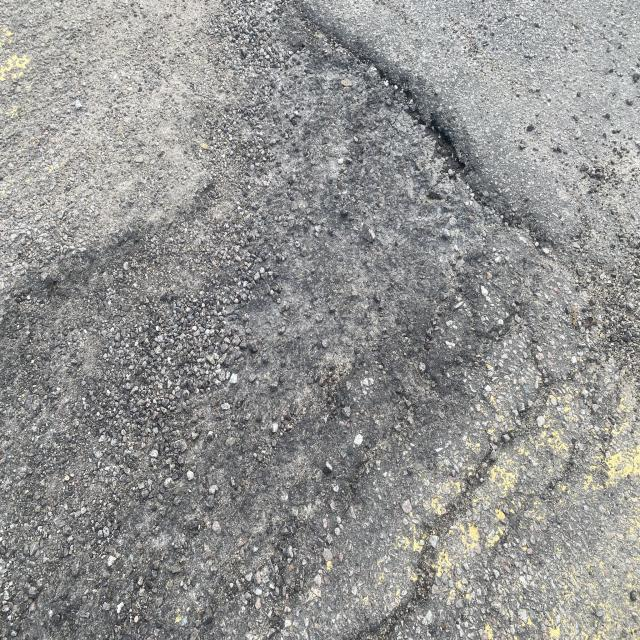pothole: (302, 6, 518, 230)
